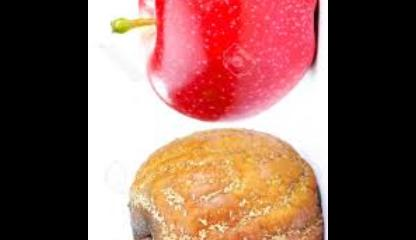defect: (126, 130, 328, 240)
